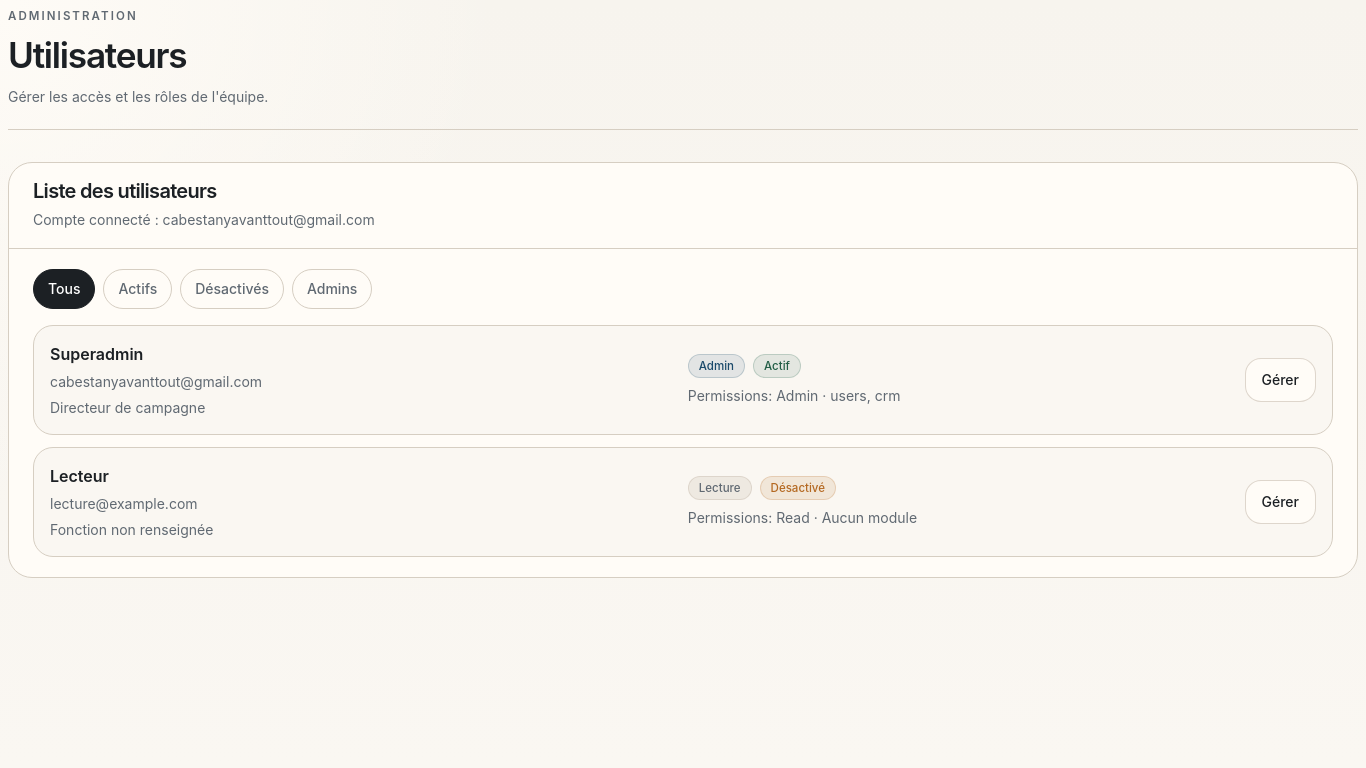
Scenario: UsersPage › masque l'ajout et les actions sensibles quand la gestion est interdite
Click the button "Gérer" in the row of "· users, crm": coordinates (1280, 380) [1244,358,1316,402]
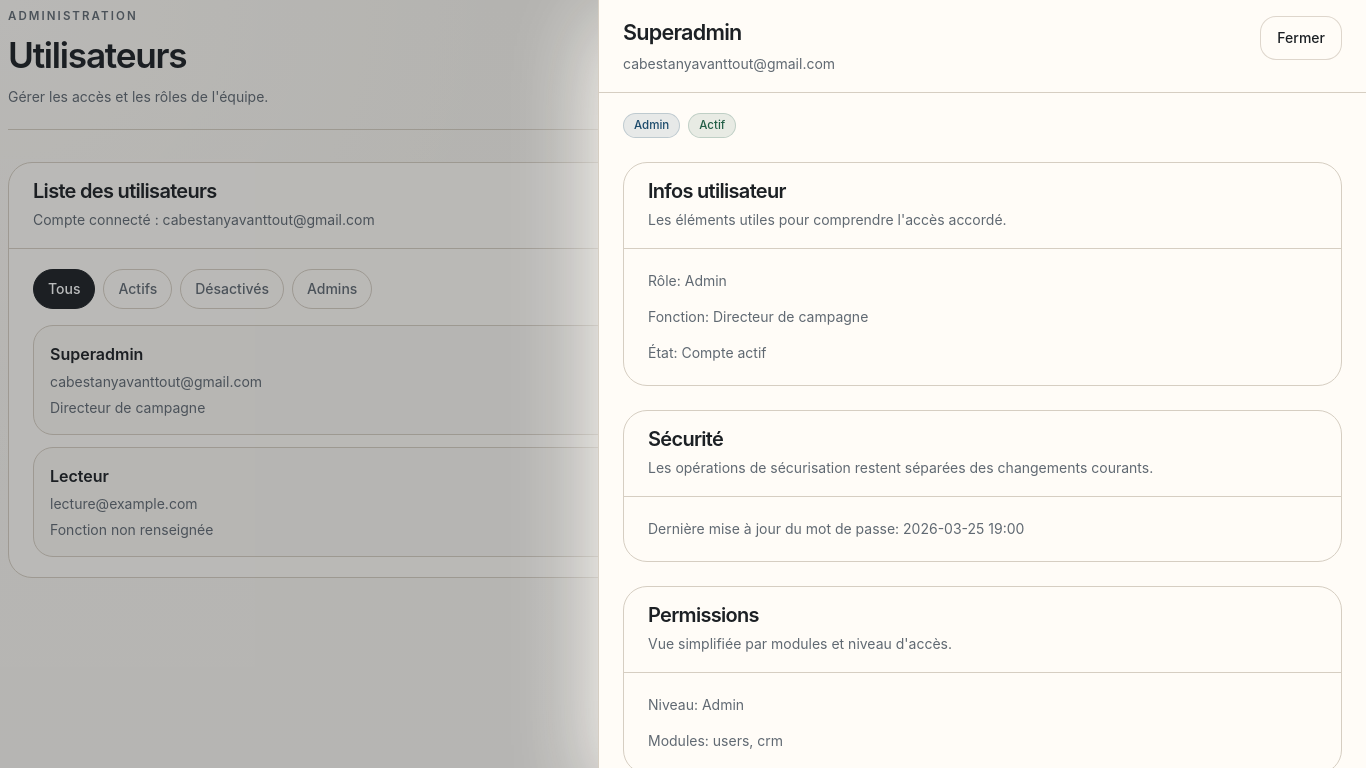
Check: the heading "Infos utilisateur" is shown, box [648,179,786,203]
Check: the heading "Sécurité" is shown, box [648,427,723,451]
Check: the heading "Permissions" is shown, box [648,603,759,627]
